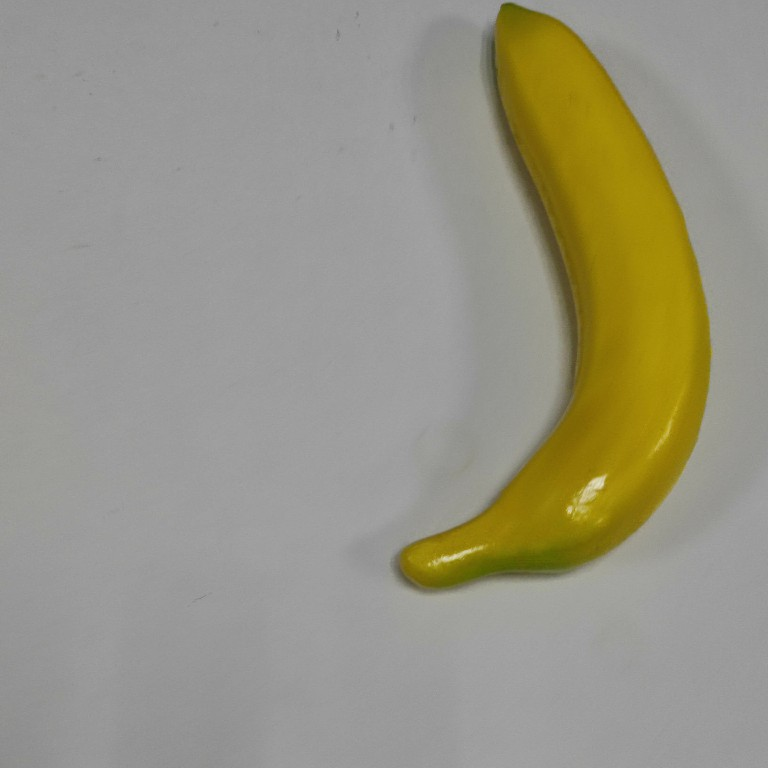fruit_banana: (390, 1, 719, 599)
